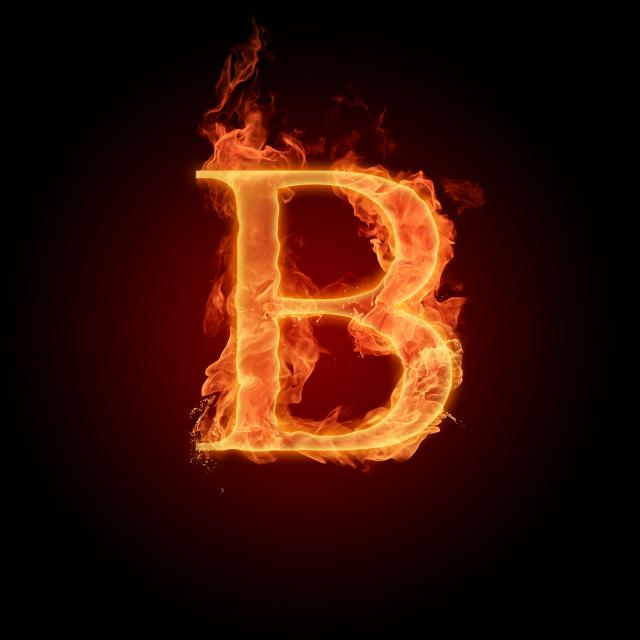B: (120, 63, 489, 490)
